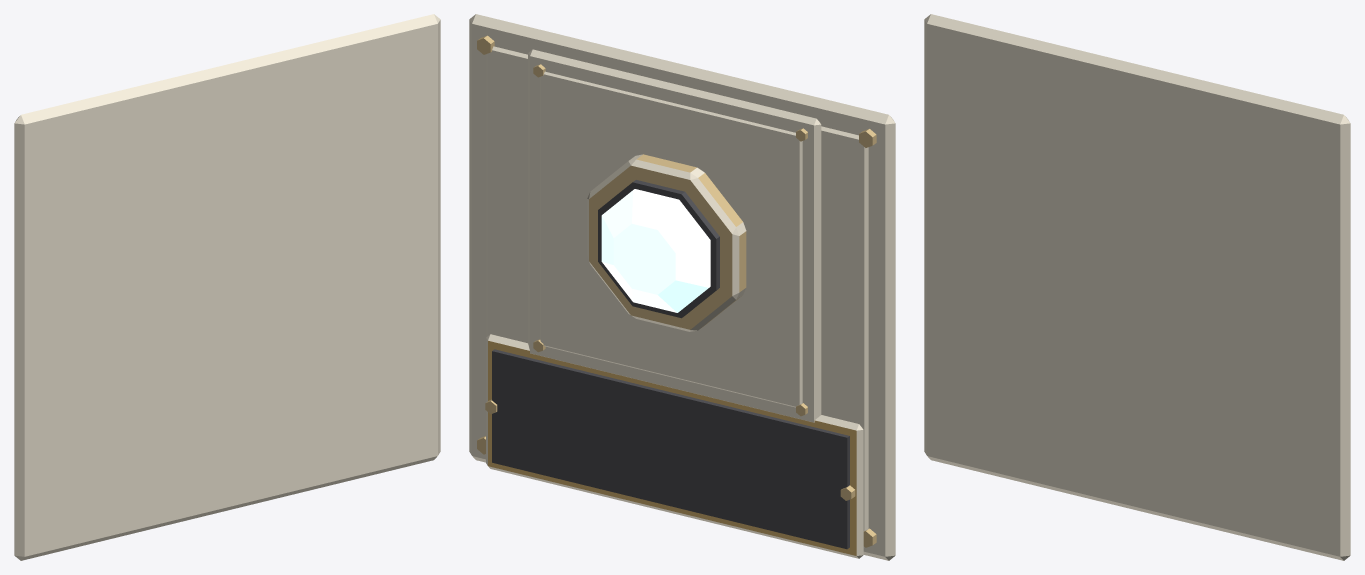
The model's file is Disp_Light.fbx.
3 views of the same model, side by side, from view 1: azimuth 30°, elevation 25°; view 2: azimuth 150°, elevation 25°; view 3: azimuth 330°, elevation 25° (orthographic).
Visible parts, largest first — view 1: Disp_Light; view 2: Disp_Light, Bulb; view 3: Disp_Light.
Boxes of the visible parts, left/top/right/bottom form: Disp_Light: left=14, top=14, right=440, bottom=560; Disp_Light: left=469, top=14, right=895, bottom=560; Bulb: left=601, top=189, right=710, bottom=312; Disp_Light: left=924, top=14, right=1350, bottom=560.
Bounding box in the file's own units: 0.96 × 0.96 × 0.1622.
